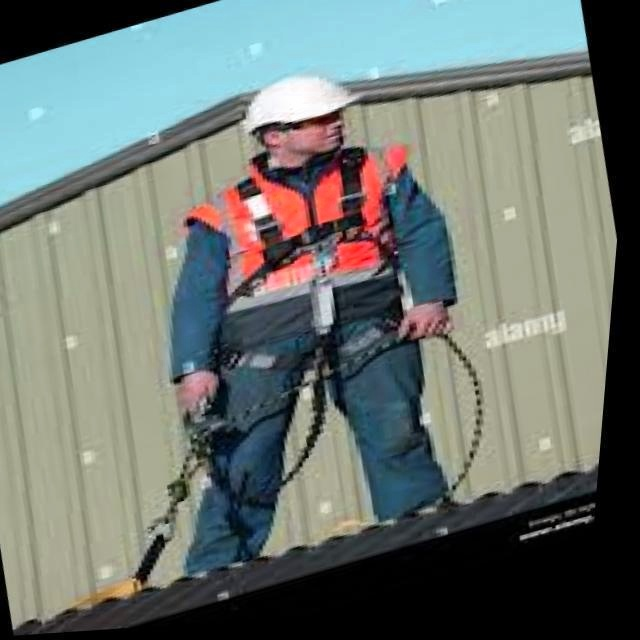safety belt: (196, 185, 432, 403)
